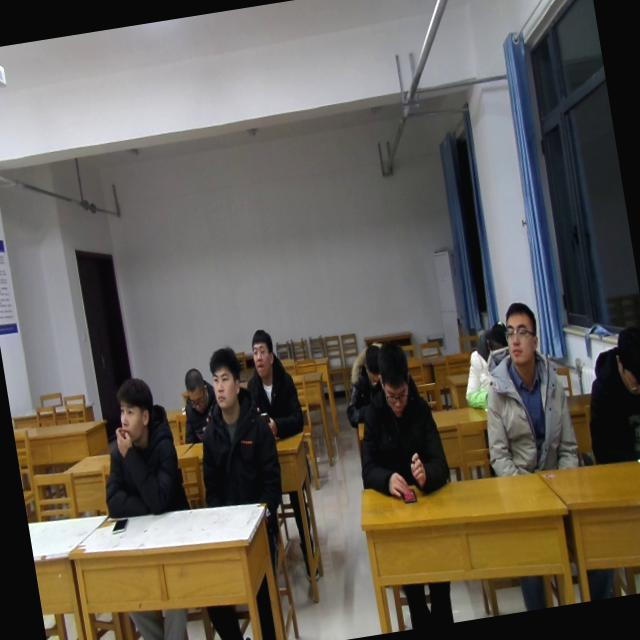bow: (453, 316, 525, 412), (334, 338, 396, 430)
down: (370, 339, 418, 420), (603, 314, 640, 399), (178, 362, 210, 416), (476, 306, 508, 352), (355, 338, 384, 384)
lookup: (494, 291, 545, 377), (108, 368, 160, 440), (200, 340, 248, 412), (245, 324, 281, 380)
sit: (466, 295, 586, 482), (339, 334, 456, 506), (180, 340, 288, 514), (85, 370, 194, 523), (570, 312, 640, 472), (240, 324, 308, 445), (173, 362, 224, 448)
